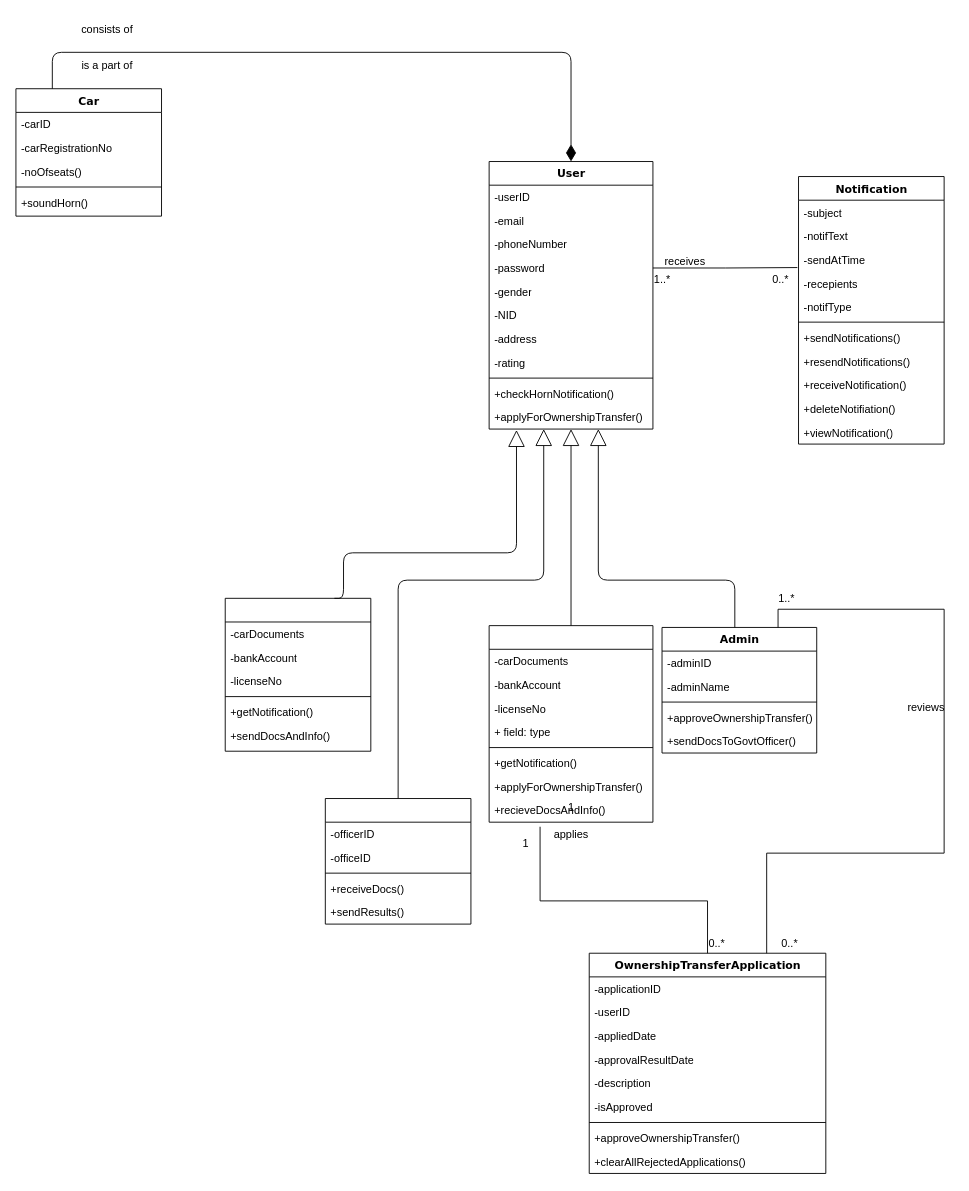
This 969x1191 diagram has some shape labels left out. The shapes that lost their labels are listed below. From the top down, each one's box as (x1, y1, x2, y2) in pixels, then its label:
(224, 597, 371, 751): NewOwner
(488, 625, 653, 822): ExistingOwner
(324, 798, 471, 924): GovtOfficer
